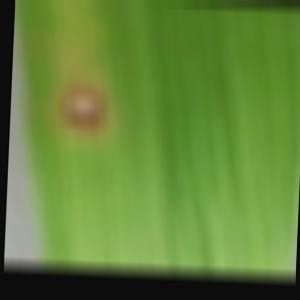Brown_Spot: (52, 51, 135, 146)
